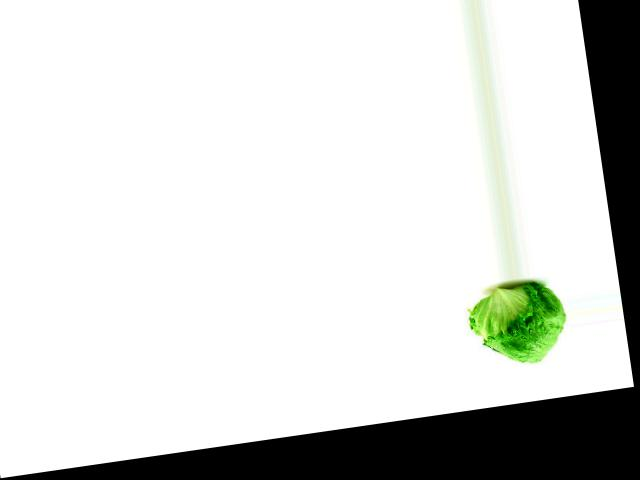lettuce: (465, 277, 575, 373)
